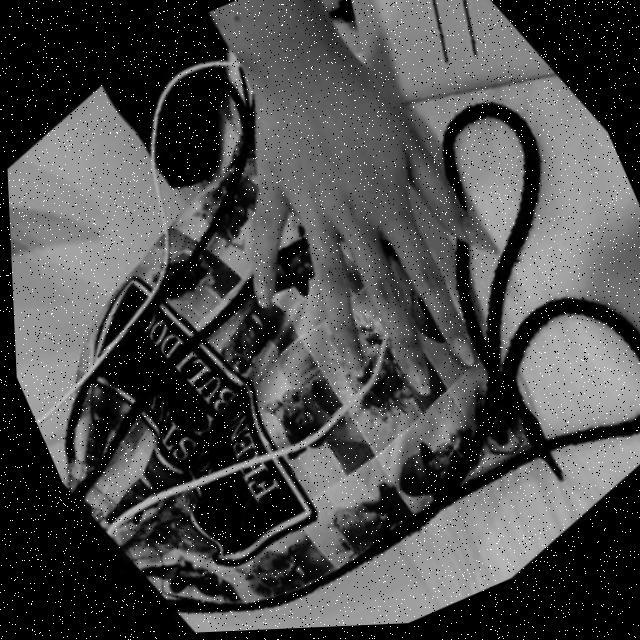no-gloves: (150, 0, 585, 456)
